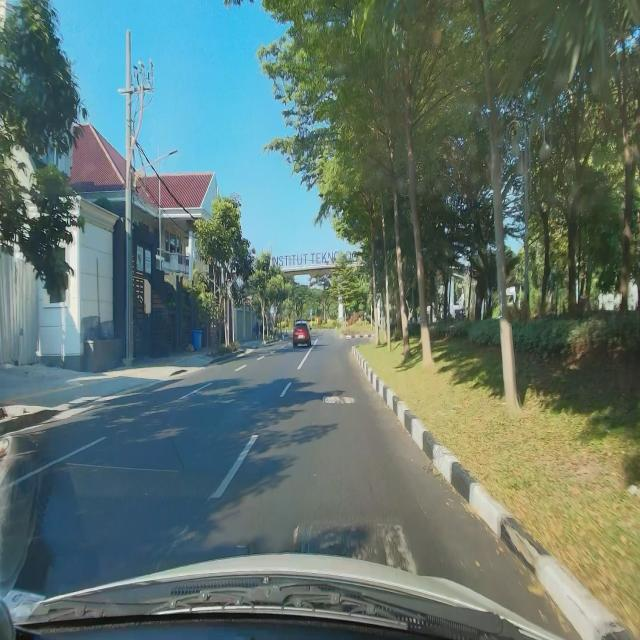car: (292, 320, 312, 348)
